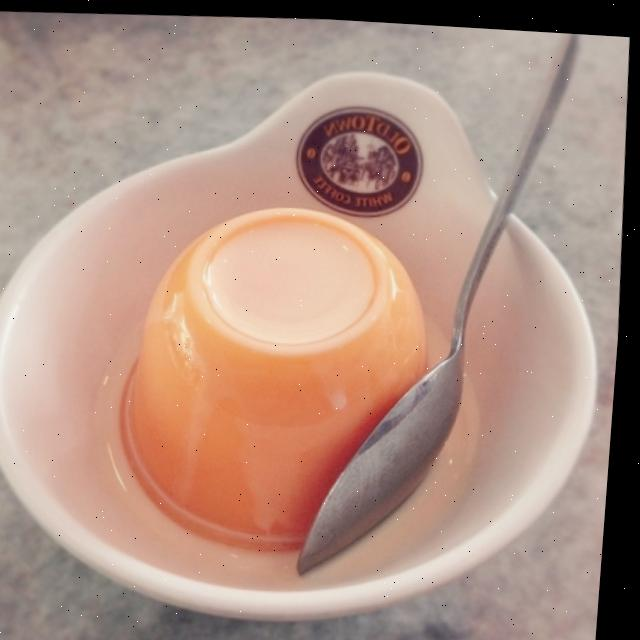蛋糕甜品: (0, 21, 639, 640)
